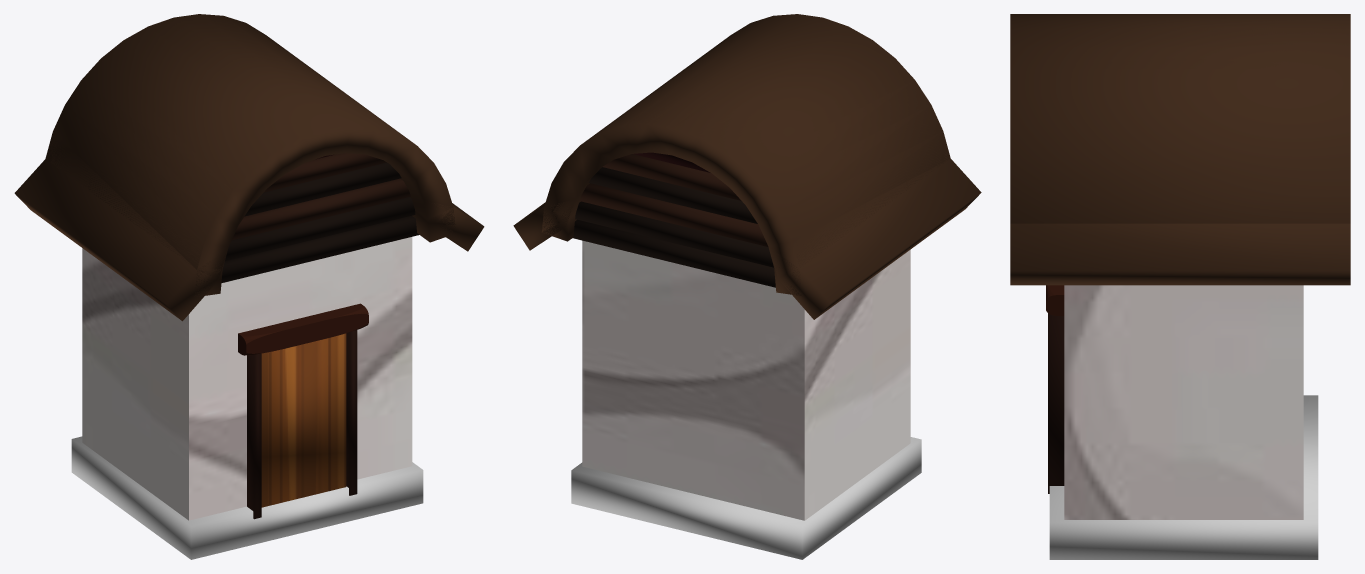
File: house.dae
3 renders of one model, left to right at view 1: azimuth 30°, elevation 25°; view 2: azimuth 150°, elevation 25°; view 3: azimuth 270°, elevation 25°, orthographic. The views are drawn at different scales.
Parts seen in each view (by area): view 1: Circle-002; view 2: Circle-002; view 3: Circle-002.
Boxes of the visible parts, left/top/right/bottom form: Circle-002: left=14, top=14, right=484, bottom=559; Circle-002: left=513, top=14, right=981, bottom=559; Circle-002: left=1010, top=14, right=1350, bottom=559.
Bounding box in the file's own units: 7.81 × 9.74 × 6.44.
